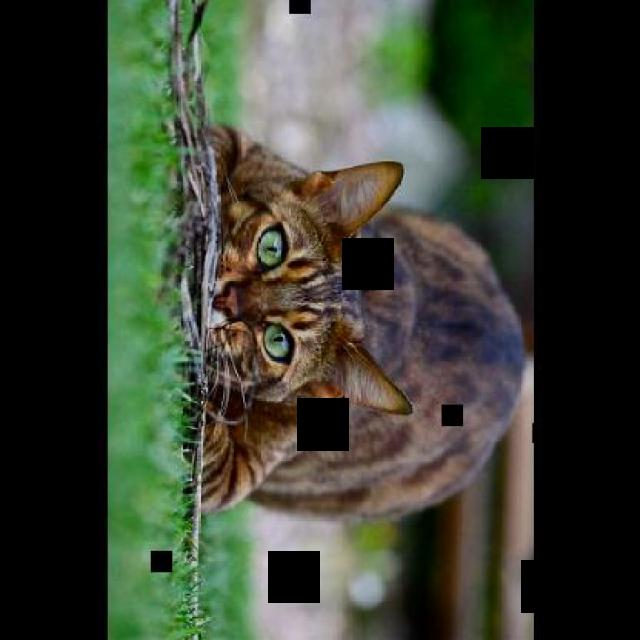unauthorized: (186, 121, 526, 522)
